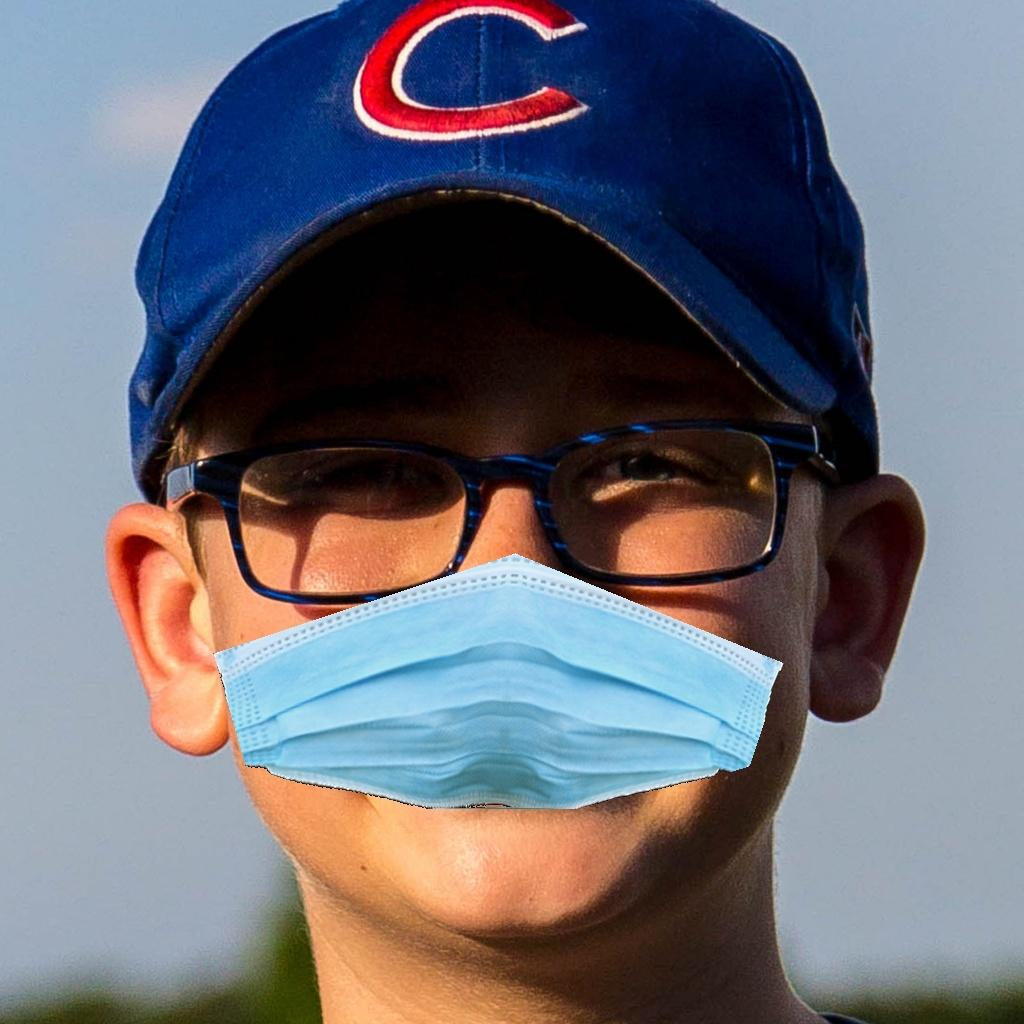Com Máscara: (162, 327, 860, 955)
